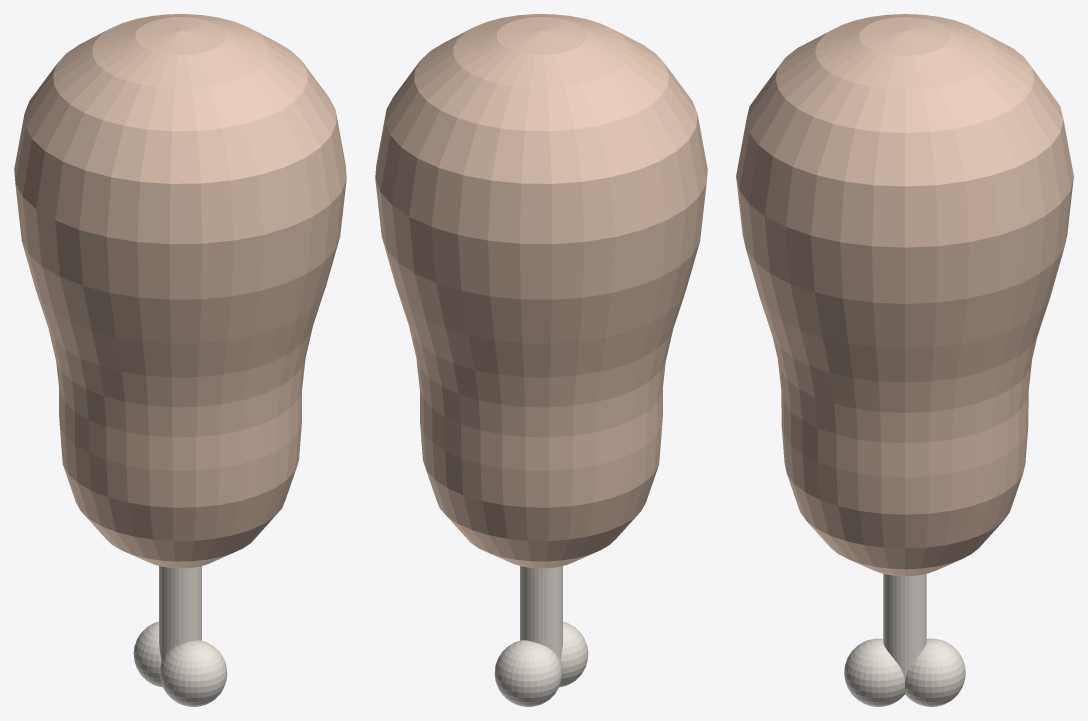
The model's file is RawChicken.fbx.
The picture shows the model from 3 angles, left to right: view 1: azimuth 30°, elevation 25°; view 2: azimuth 150°, elevation 25°; view 3: azimuth 270°, elevation 25°; orthographic projection.
Parts seen in each view (by area): view 1: Sphere.001; view 2: Sphere.001; view 3: Sphere.001.
Part boxes in pixels (x1,y1,x2,y2): Sphere.001: [14, 14, 346, 706]; Sphere.001: [375, 14, 707, 706]; Sphere.001: [736, 14, 1073, 706].
Bounding box in the file's own units: 12.73 × 27.97 × 12.73.
